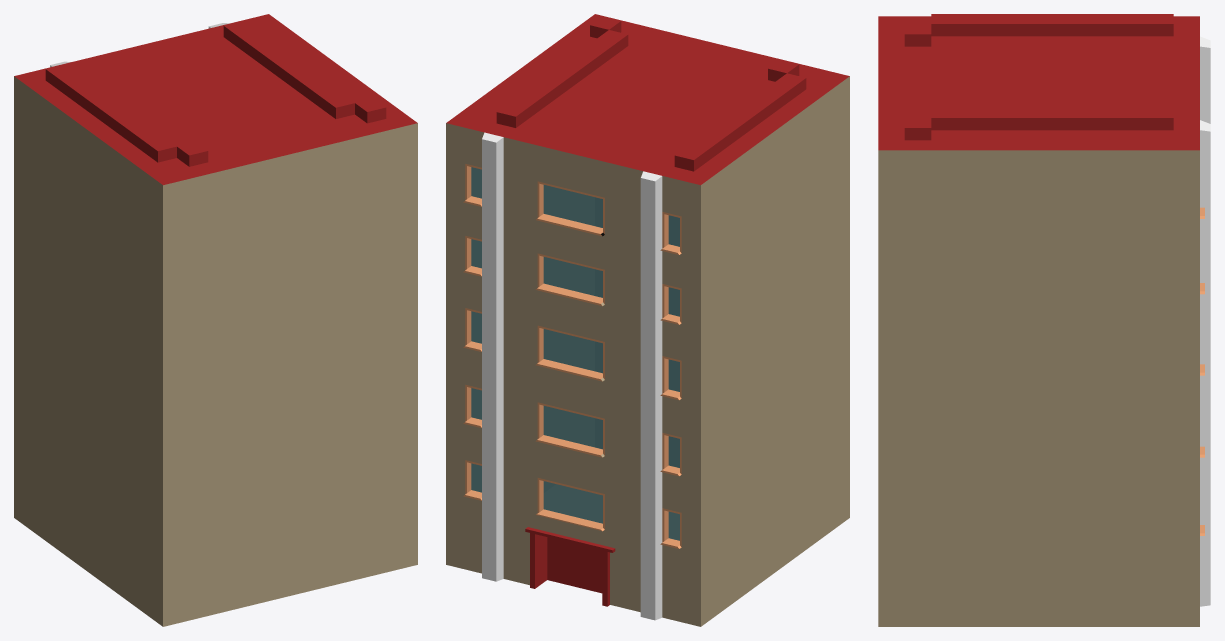
File: building_3_Re.FBX
3 renders of one model, left to right at view 1: azimuth 30°, elevation 25°; view 2: azimuth 150°, elevation 25°; view 3: azimuth 270°, elevation 25°, orthographic. The views are drawn at different scales.
Visible parts, largest first — view 1: Building3; view 2: Building3; view 3: Building3.
Boxes of the visible parts, left/top/right/bottom form: Building3: left=14, top=14, right=417, bottom=626; Building3: left=446, top=14, right=849, bottom=626; Building3: left=878, top=14, right=1210, bottom=626.
Bounding box in the file's own units: 364 × 618 × 381.
